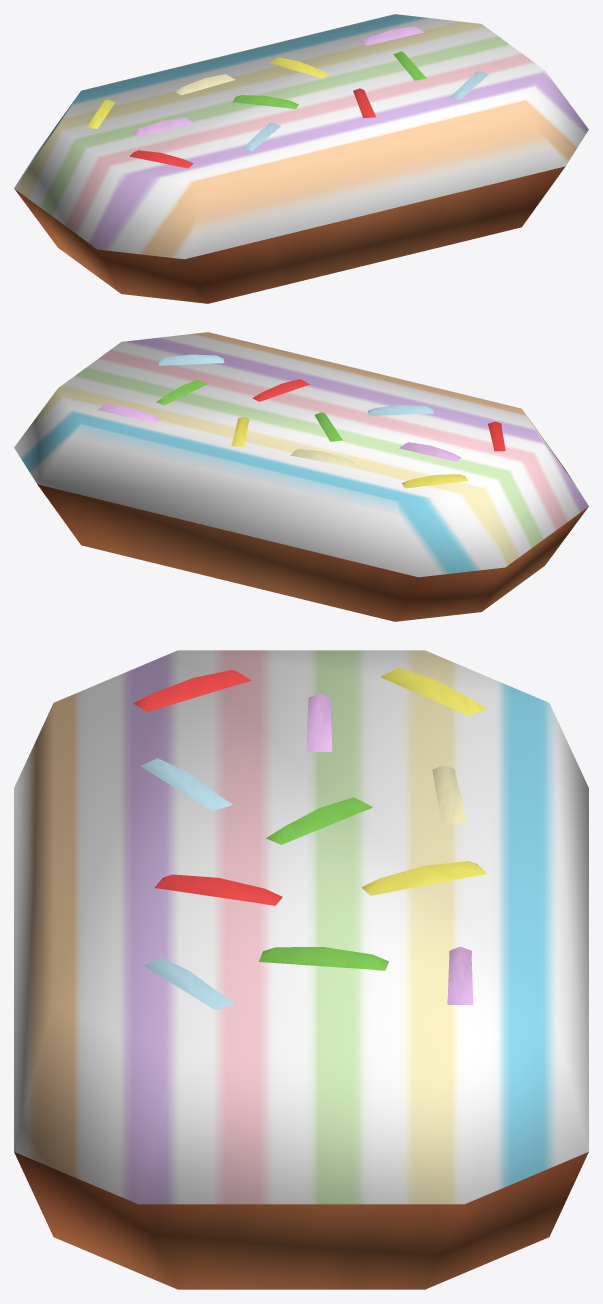
File: Doughnut_Bar_G_5.FBX
3 views of the same model, one above another, from view 1: azimuth 30°, elevation 25°; view 2: azimuth 150°, elevation 25°; view 3: azimuth 270°, elevation 25° (orthographic). The views are drawn at different scales.
Parts seen in each view (by area): view 1: Doughnut_Bar; view 2: Doughnut_Bar; view 3: Doughnut_Bar.
Part boxes in pixels (x1,y1,x2,y2): Doughnut_Bar: [14, 14, 588, 303]; Doughnut_Bar: [14, 332, 588, 621]; Doughnut_Bar: [14, 650, 588, 1289].
Size of the model in its own units: 75.48 by 18.74 by 39.15.
